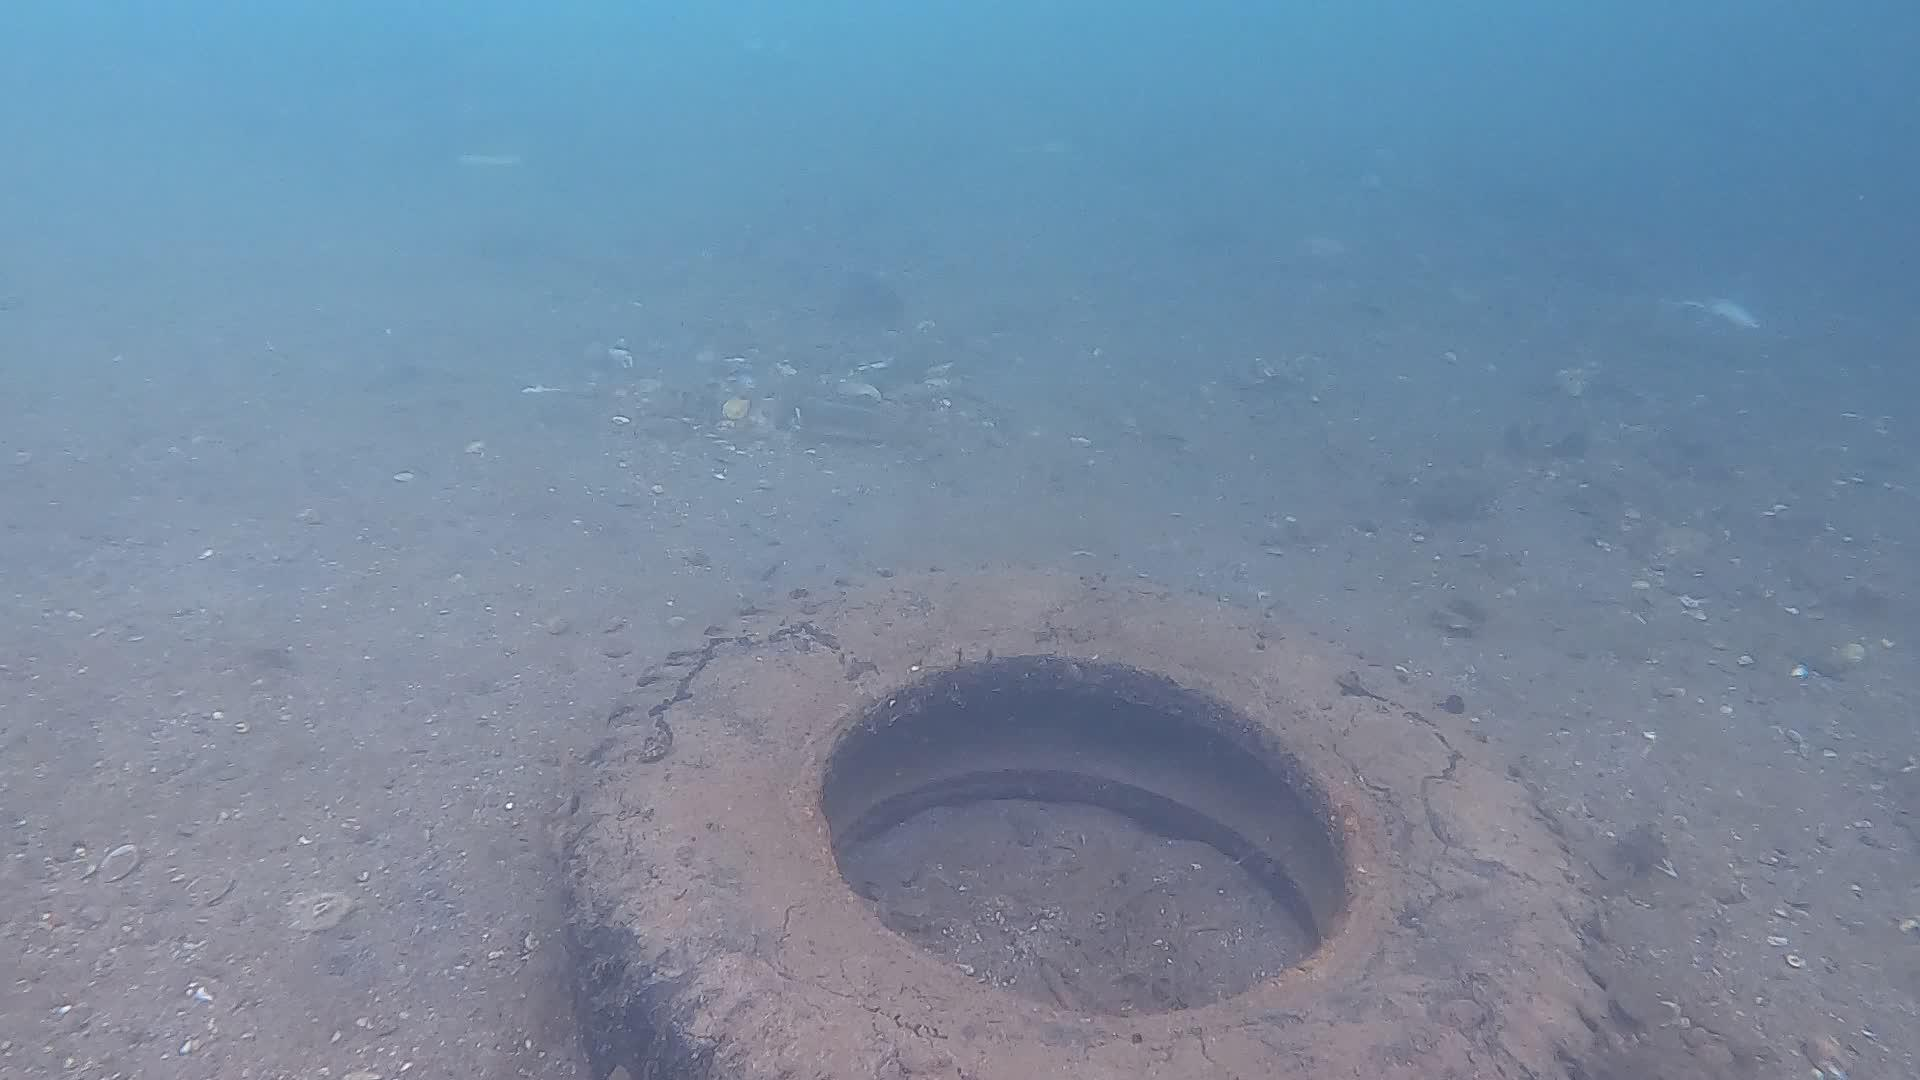tire: (562, 553, 1610, 1080)
